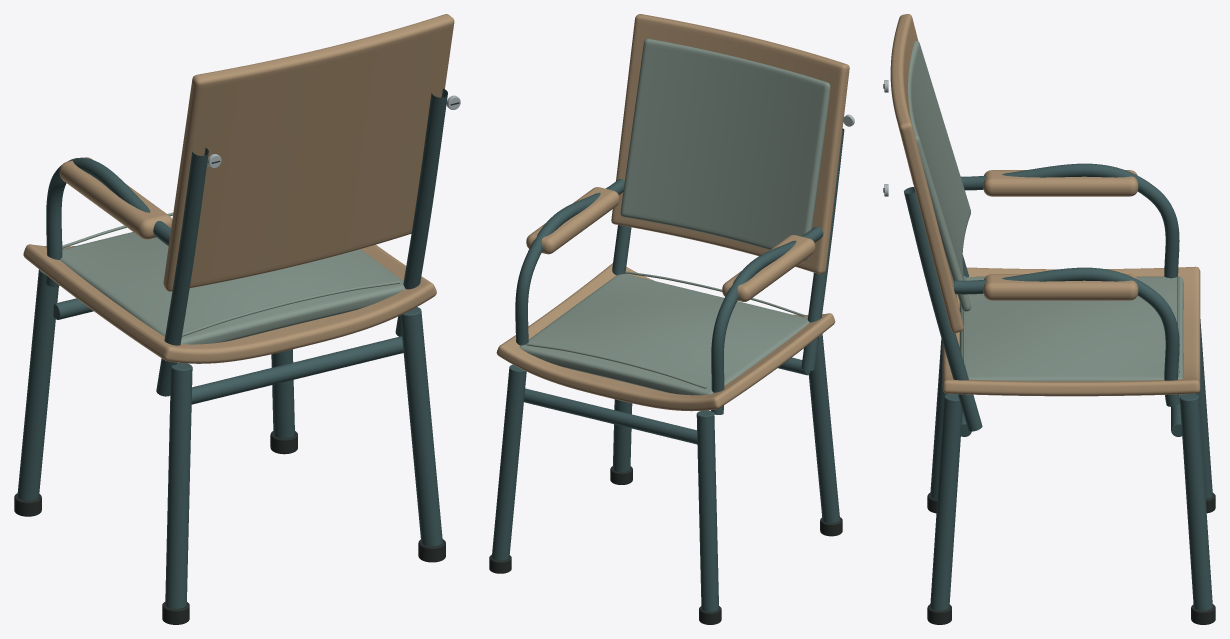
File: reading_chair.glb
3 views of the same model, side by side, from view 1: azimuth 30°, elevation 25°; view 2: azimuth 150°, elevation 25°; view 3: azimuth 270°, elevation 25° (orthographic). The views are drawn at different scales.
Parts seen in each view (by area): view 1: Curved plywood back, Soft upholstered seat, Sculpted plywood seat, Tapered steel leg, Tapered steel leg.002, Tapered steel leg.001, Back support, Underseat stretcher, Back support.001, Arm rest tube, Rounded timber arm pad, Tapered steel leg.003 (+1 smaller); view 2: Back fabric inset, Soft upholstered seat, Curved plywood back, Sculpted plywood seat, Tapered steel leg.001, Tapered steel leg.003, Tapered steel leg, Underseat stretcher.001, Arm rest tube, Arm rest tube.001, Rounded timber arm pad.001, Rounded timber arm pad (+4 smaller); view 3: Soft upholstered seat, Sculpted plywood seat, Back fabric inset, Curved plywood back, Tapered steel leg.003, Tapered steel leg.002, Arm rest tube.001, Rounded timber arm pad, Rounded timber arm pad.001, Arm rest tube, Back support.001, Tapered steel leg.001 (+1 smaller).
Part boxes in pixels (x1,y1,x2,y2): Curved plywood back: (163,14,454,291); Soft upholstered seat: (60,232,405,344); Sculpted plywood seat: (23,244,436,363); Tapered steel leg: (165,363,192,608); Tapered steel leg.002: (400,307,442,546); Tapered steel leg.001: (17,269,58,500); Back support: (156,148,208,396); Underseat stretcher: (191,336,403,404); Back support.001: (395,88,447,336); Arm rest tube: (46,157,170,287); Rounded timber arm pad: (59,157,172,239); Tapered steel leg.003: (271,349,294,438); Back fabric inset: (620,38,830,260); Soft upholstered seat: (519,273,809,395); Curved plywood back: (611,14,849,274); Sculpted plywood seat: (496,263,835,411); Tapered steel leg.001: (696,410,718,611); Tapered steel leg.003: (491,364,526,560); Tapered steel leg: (808,334,839,523); Underseat stretcher.001: (524,388,697,444); Arm rest tube: (711,226,823,414); Arm rest tube.001: (515,179,624,345); Rounded timber arm pad.001: (526,187,619,254); Rounded timber arm pad: (722,235,815,301); Soft upholstered seat: (959,276,1183,381); Sculpted plywood seat: (942,266,1200,396); Back fabric inset: (908,40,971,311); Curved plywood back: (890,14,963,332); Tapered steel leg.003: (1179,394,1212,610); Tapered steel leg.002: (930,394,962,610); Arm rest tube.001: (953,267,1179,406); Rounded timber arm pad: (983,170,1138,196); Rounded timber arm pad.001: (983,274,1138,300); Arm rest tube: (961,163,1179,278); Back support.001: (904,187,982,431); Tapered steel leg.001: (1195,319,1212,499).
Size of the model in its own units: 0.5388 by 1.02 by 0.6214.
